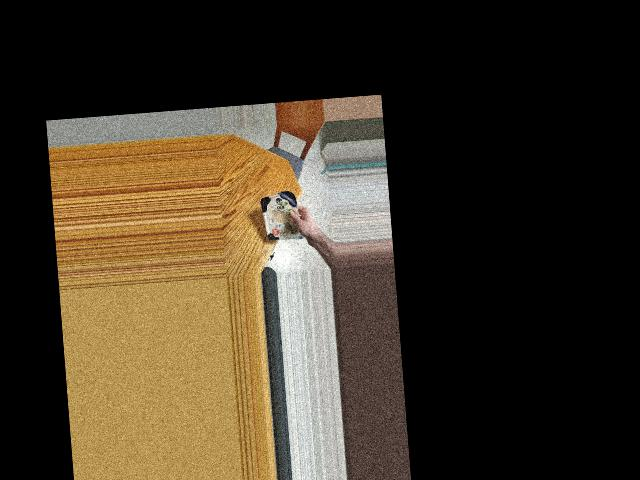cheese: (264, 188, 303, 247)
